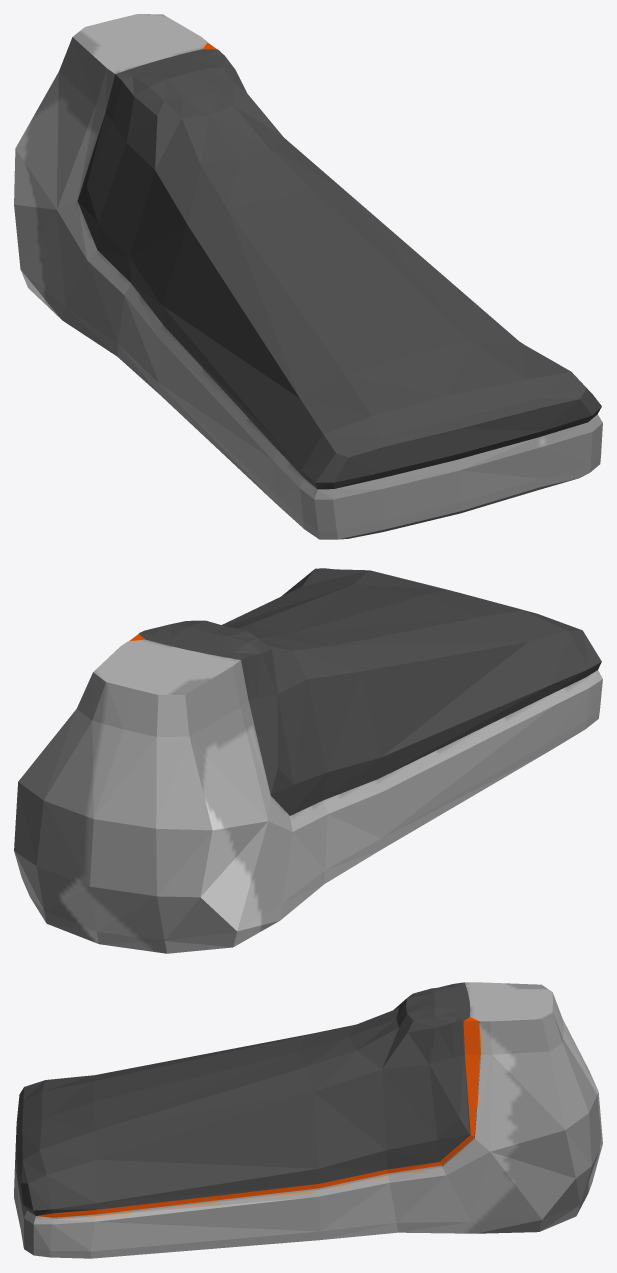
Rendered from LeftFoot.obj.
3 renders of one model, top to bottom at view 1: azimuth 30°, elevation 25°; view 2: azimuth 150°, elevation 25°; view 3: azimuth 270°, elevation 25°, orthographic. The views are drawn at different scales.
Visible parts, largest first — view 1: LeftFoot_Mesh.472; view 2: LeftFoot_Mesh.472; view 3: LeftFoot_Mesh.472.
Part boxes in pixels (box(x1,y1,x2,y2)): LeftFoot_Mesh.472: box(14, 14, 602, 539); LeftFoot_Mesh.472: box(14, 568, 602, 953); LeftFoot_Mesh.472: box(14, 982, 602, 1258).
Bounding box in the file's own units: 0.0952 × 0.0752 × 0.2037.
3 materials, 1 textured.
